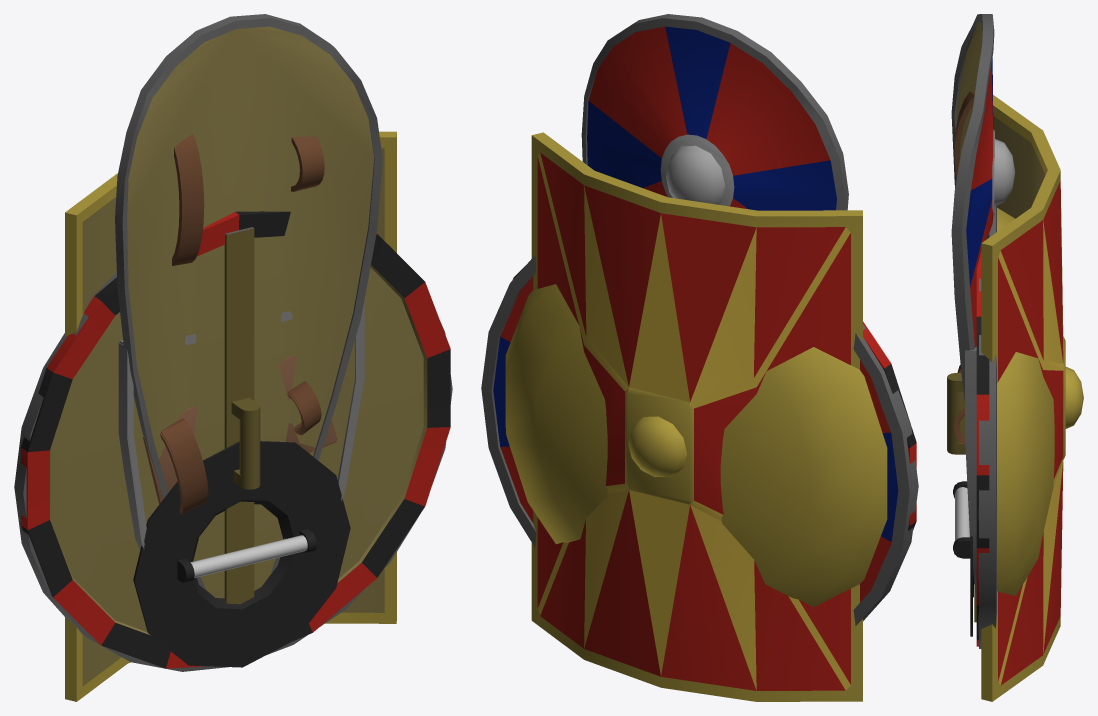
Rendered from ShieldNP04.fbx.
3 views of the same model, side by side, from view 1: azimuth 30°, elevation 25°; view 2: azimuth 150°, elevation 25°; view 3: azimuth 270°, elevation 25° (orthographic). The views are drawn at different scales.
Visible parts, largest first — view 1: KiteShield01A, RoundShield01A, Buckler01M-A, Aspis01A, Scutum01A, HeaterShield01A, HeaterShield01F; view 2: Scutum01A, Aspis01A, KiteShield01A, RoundShield01A; view 3: Scutum01A, Aspis01A, KiteShield01A, RoundShield01A, HeaterShield01F, Buckler01M-A.
Part boxes in pixels (bbox=[...]): KiteShield01A: bbox=[115, 14, 382, 590]; RoundShield01A: bbox=[14, 227, 452, 671]; Buckler01M-A: bbox=[133, 441, 350, 667]; Aspis01A: bbox=[21, 211, 450, 668]; Scutum01A: bbox=[65, 131, 396, 701]; HeaterShield01A: bbox=[118, 305, 363, 550]; HeaterShield01F: bbox=[119, 300, 364, 546]; Scutum01A: bbox=[531, 132, 862, 701]; Aspis01A: bbox=[505, 266, 916, 607]; KiteShield01A: bbox=[581, 14, 848, 210]; RoundShield01A: bbox=[481, 255, 918, 625]; Scutum01A: bbox=[981, 95, 1083, 701]; Aspis01A: bbox=[976, 208, 1054, 646]; KiteShield01A: bbox=[951, 14, 1015, 401]; RoundShield01A: bbox=[947, 205, 996, 648]; HeaterShield01F: bbox=[954, 347, 976, 590]; Buckler01M-A: bbox=[953, 481, 974, 636].
Bounding box in the file's own units: 0.9235 × 1.32 × 0.272.
